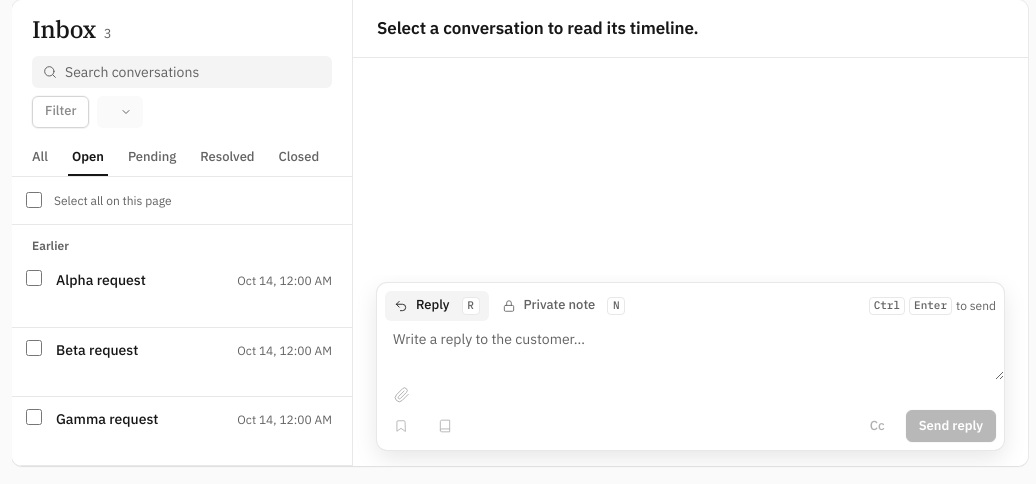
shows no action bar until a row is selected
The image size is (1036, 484).
Click the checkbox named "alpha request" at (34, 278), box left=26, top=270, right=42, bottom=286
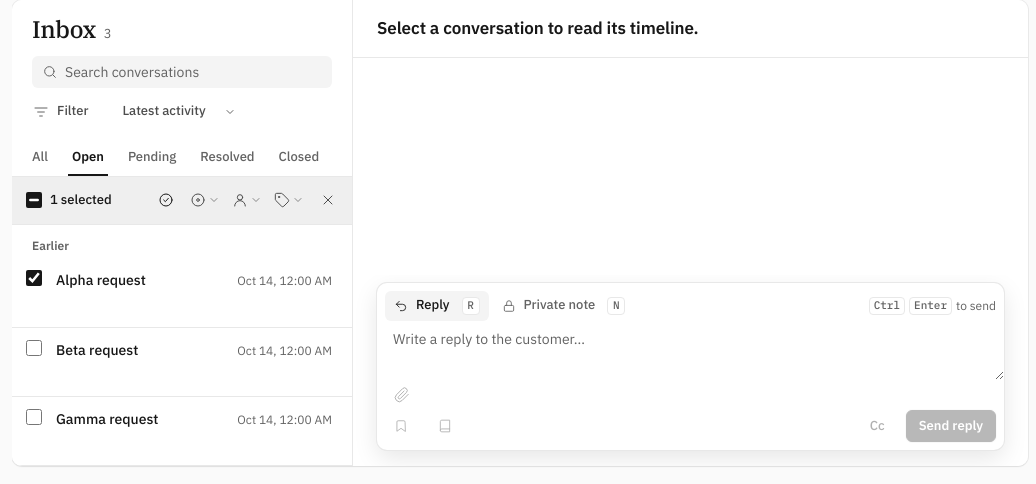
Expected: the text "1 selected" is shown, left=50, top=191, right=112, bottom=210
